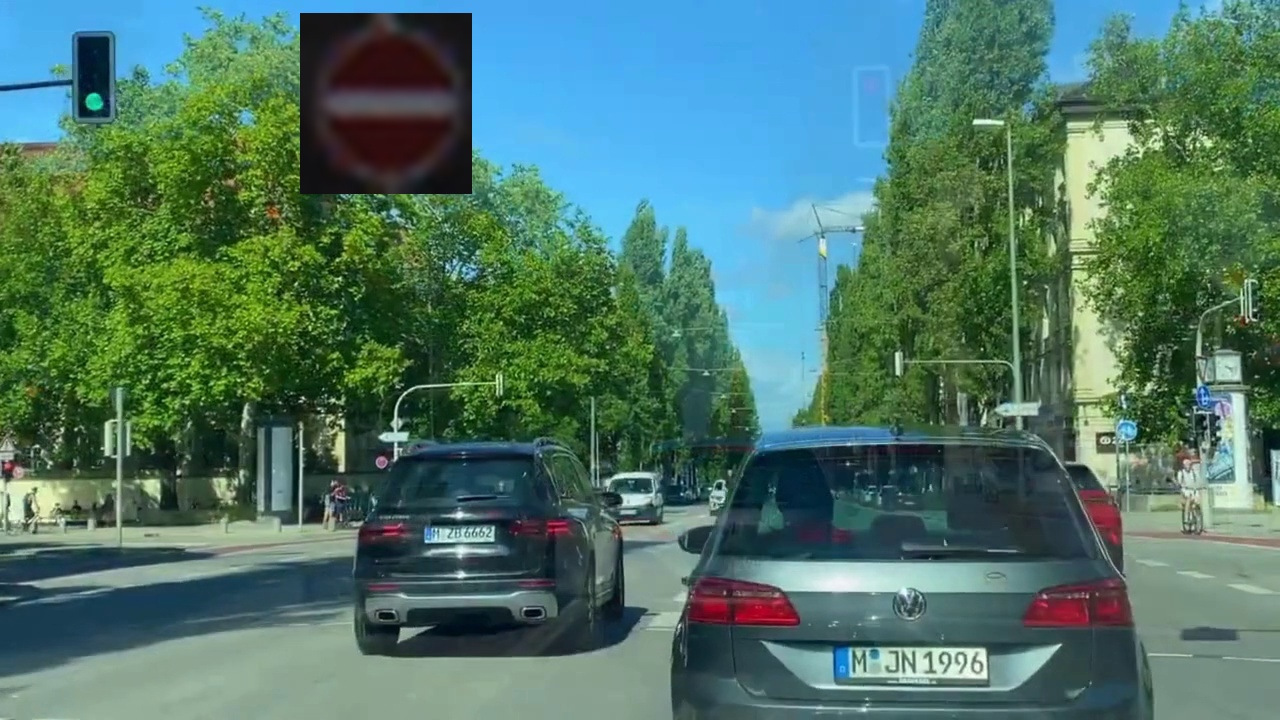No entry: (300, 13, 472, 194)
